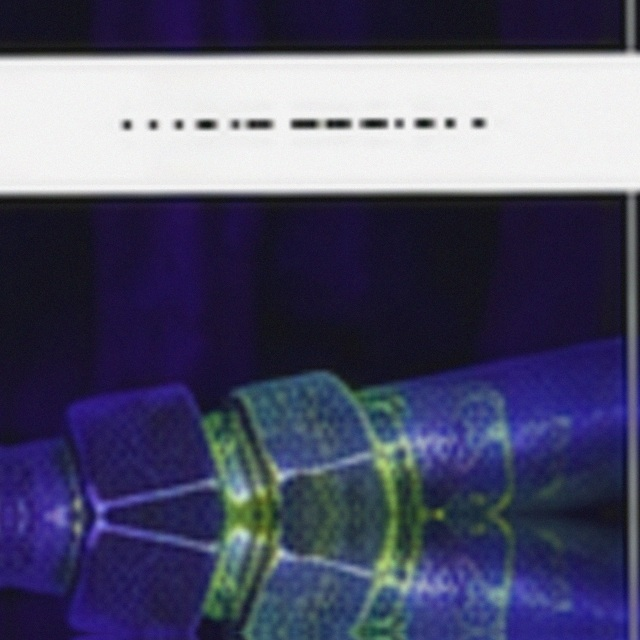hydraulic_oil_leak: (218, 479, 277, 548), (332, 378, 403, 430), (406, 471, 444, 566), (373, 457, 403, 571), (203, 413, 245, 478), (213, 547, 243, 591), (241, 390, 269, 424), (328, 484, 345, 503), (364, 500, 372, 526), (273, 391, 286, 403), (337, 526, 343, 547), (501, 495, 511, 504), (502, 523, 509, 531), (271, 407, 277, 416), (376, 512, 380, 519), (407, 463, 410, 467), (308, 389, 312, 392), (376, 593, 379, 596), (542, 490, 545, 493)
